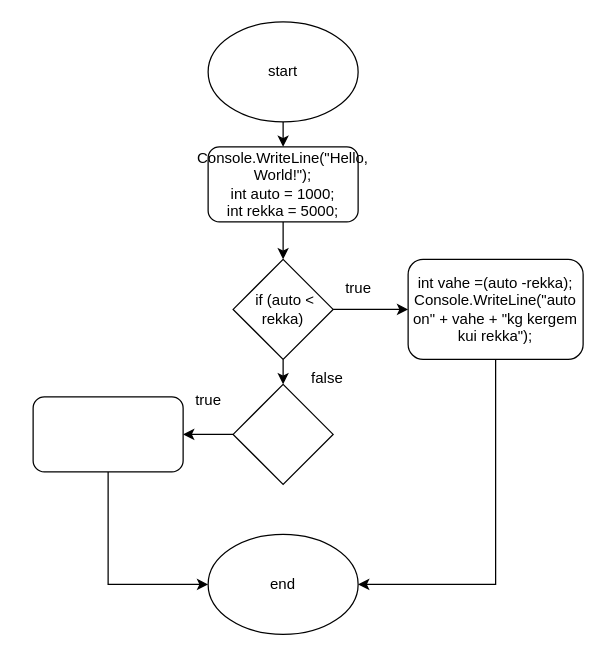
Some shapes in this 605 by 656 pixel diagram are drawn without their labels. Here are the shapes that lost their labels. From the top down, the box of each, then its label:
(32, 396, 183, 472): Console.WriteLine("rekka on kergem");
(232, 383, 333, 484): else
